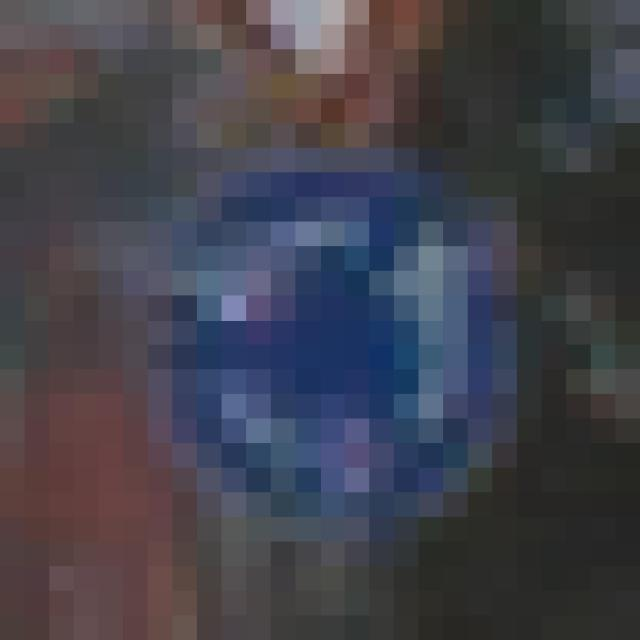Round-About: (148, 99, 542, 566)
